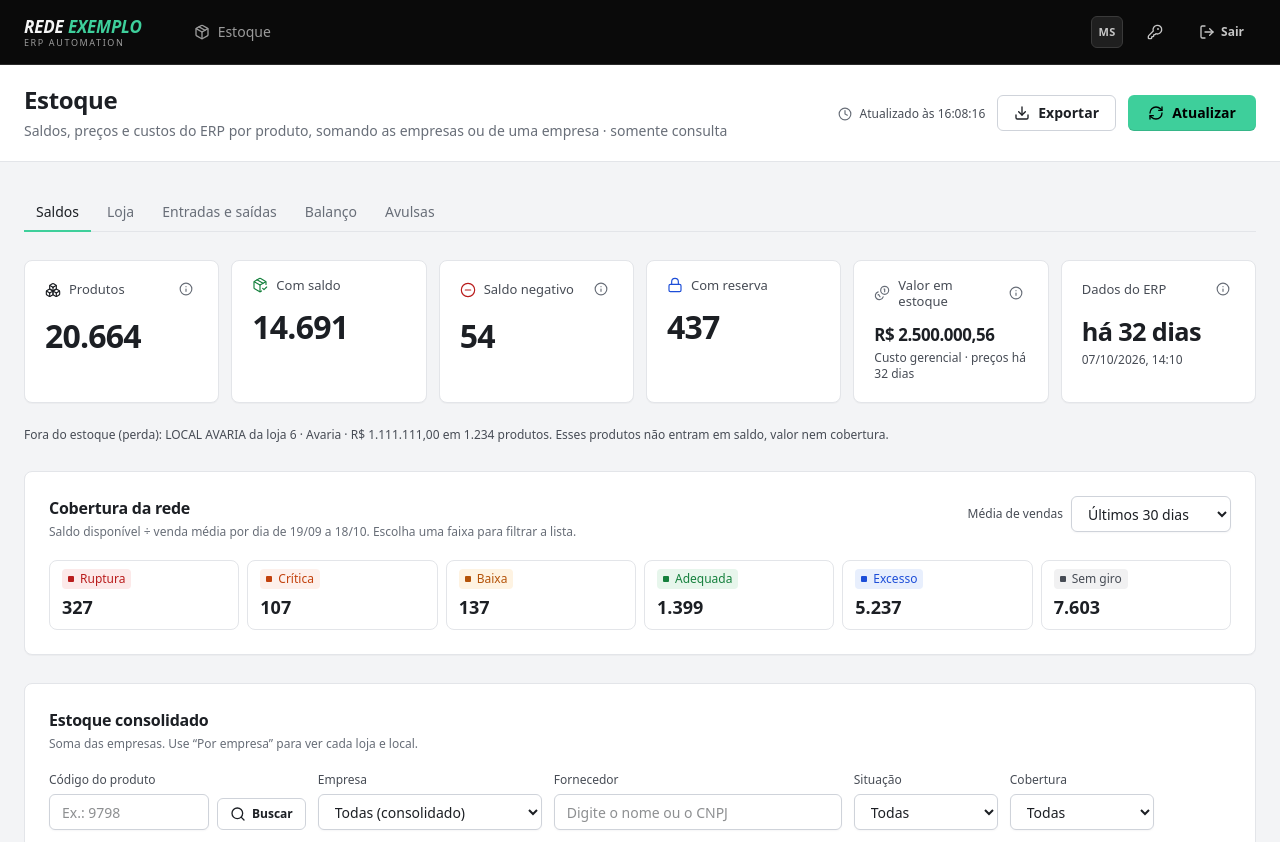
Scenario: EstoquePage › aba de entradas e saídas mostra o livro por loja e marca o que falta confirmar
Click the tab "Entradas e saídas": (219, 213) [150,194,289,232]
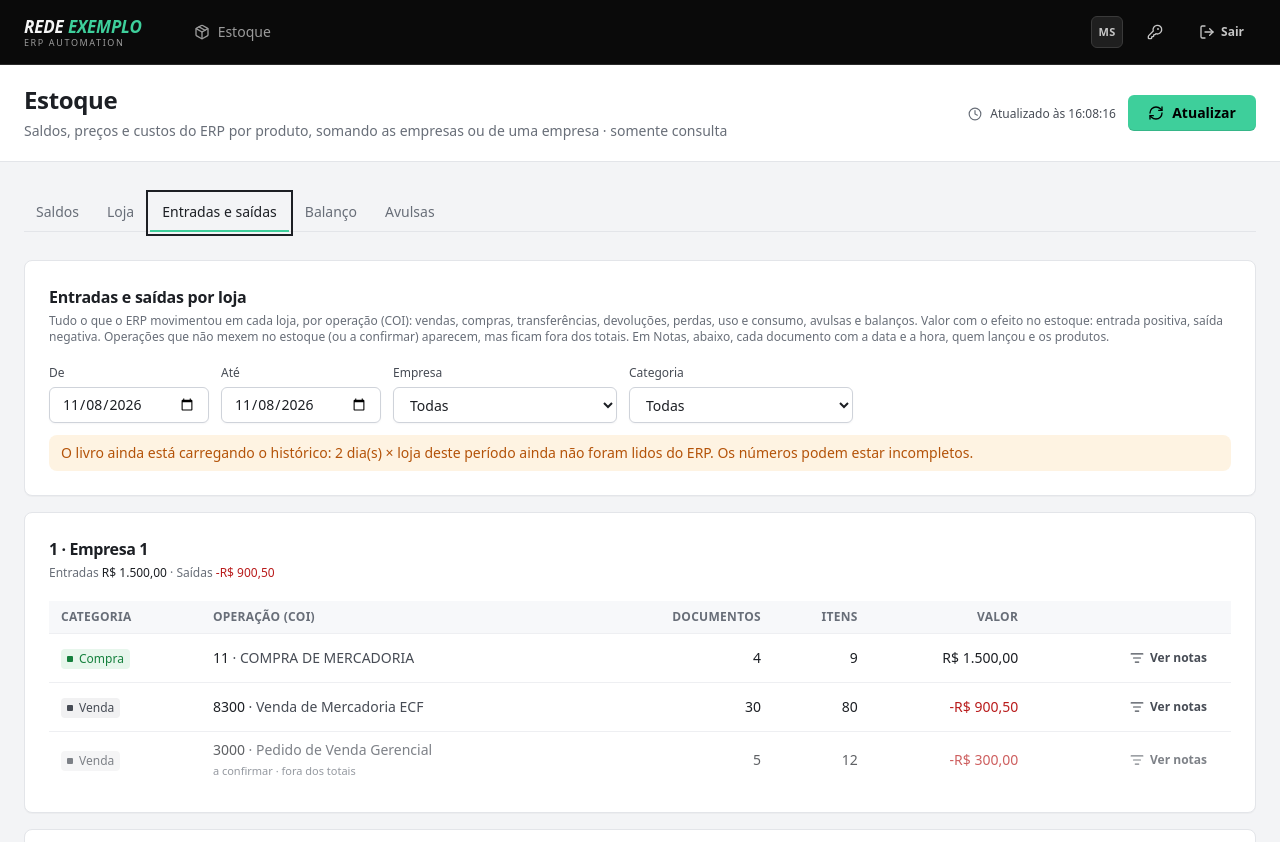
Expected: the table named "Movimentos da loja 1 por operação" shows "COMPRA DE MERCADORIA", [240,648,414,667]
Expected: the table named "Movimentos da loja 1 por operação" shows "a confirmar · fora dos totais", [213,763,356,778]
Expected: the element named "Movimentos da loja 1 por operação" shows "Entradas R$ 1.500,00 · Saídas -R$ 900,50", [24,512,1256,813]
